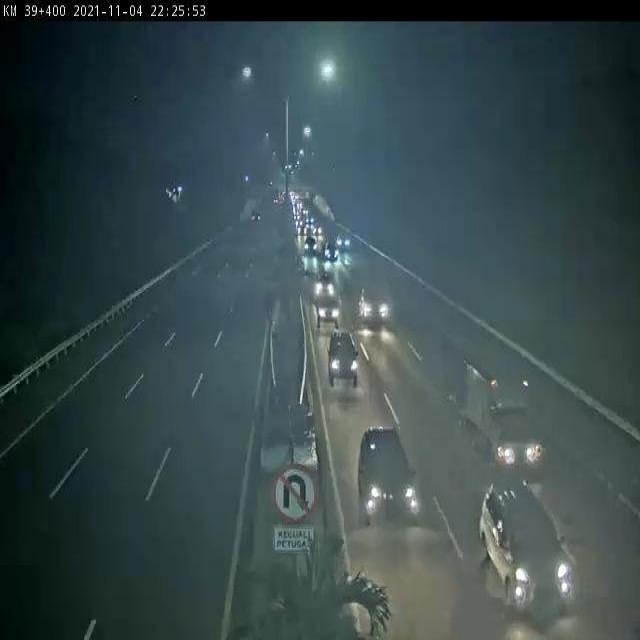car: (485, 482, 577, 610), (358, 429, 422, 522), (329, 331, 358, 384), (359, 290, 390, 334), (319, 299, 347, 336), (316, 269, 342, 299), (324, 245, 342, 264)
truck-m-: (466, 360, 544, 472)
